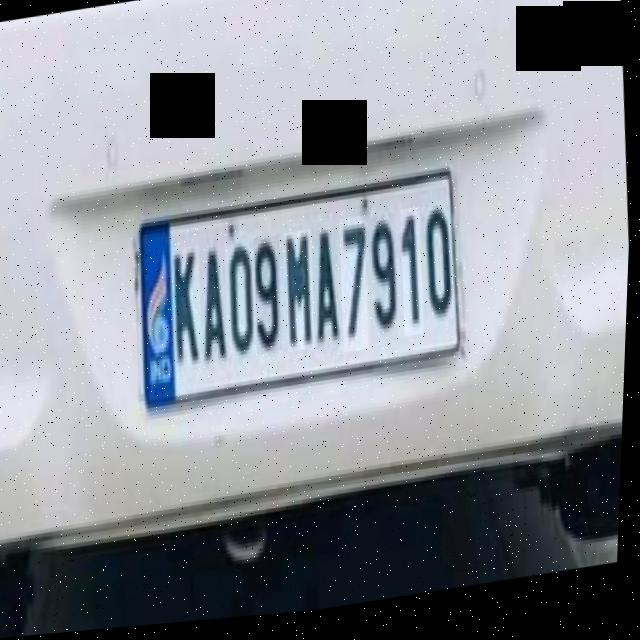0: (420, 205, 461, 335), (223, 233, 262, 360)
1: (398, 214, 430, 345)
7: (337, 222, 375, 360)
9: (365, 219, 405, 352), (252, 240, 290, 360)
A: (196, 238, 235, 378), (310, 234, 346, 358)
K: (169, 248, 209, 374)
M: (283, 234, 321, 358)
